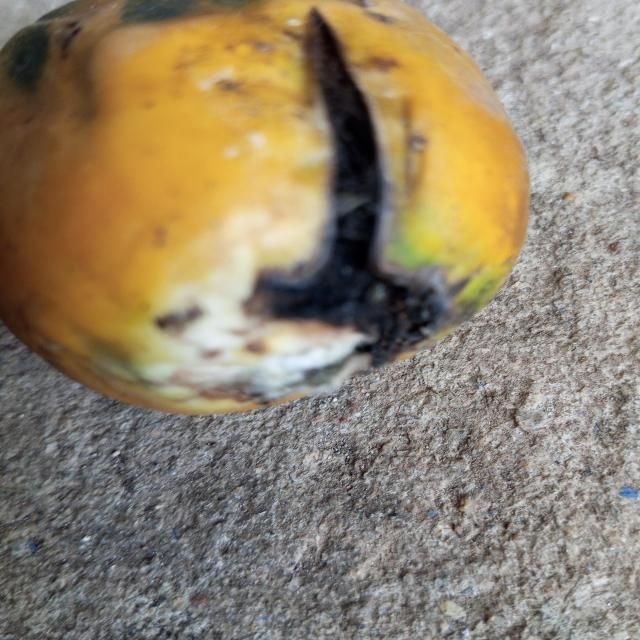damaged: (0, 0, 529, 414)
